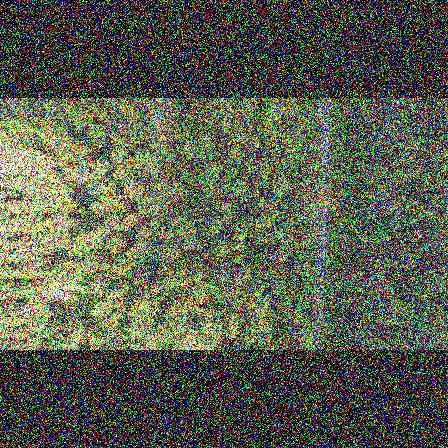Sick: (165, 181, 183, 198), (265, 105, 283, 121), (102, 215, 121, 229), (136, 225, 152, 240), (231, 272, 244, 289), (183, 138, 197, 153), (429, 195, 441, 208)
